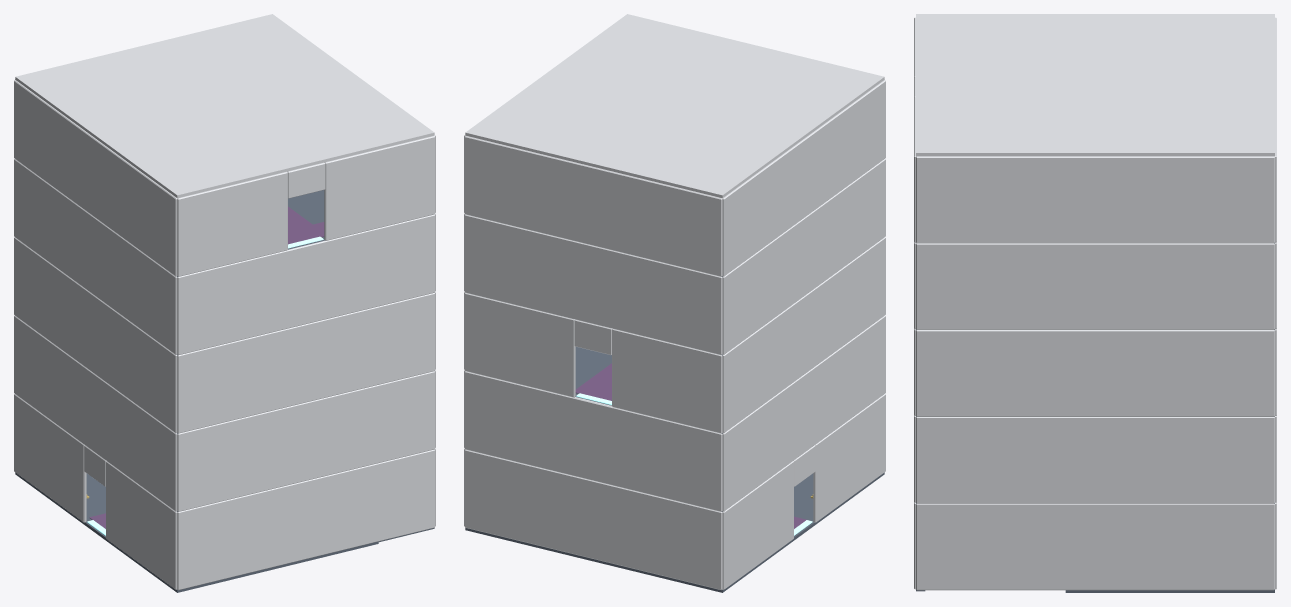
File: stairwell-fwd.glb
3 views of the same model, side by side, from view 1: azimuth 30°, elevation 25°; view 2: azimuth 150°, elevation 25°; view 3: azimuth 270°, elevation 25° (orthographic). The views are drawn at different scales.
Visible parts, largest first — view 1: CM_BULKHEAD, CM_DECK, CM_CARPET; view 2: CM_BULKHEAD, CM_DECK, CM_CARPET; view 3: CM_BULKHEAD, CM_DECK.
Boxes of the visible parts, x1,y1,x2,y2 form: CM_BULKHEAD: (14, 14, 435, 590); CM_DECK: (15, 190, 434, 592); CM_CARPET: (89, 206, 324, 528); CM_BULKHEAD: (464, 14, 885, 590); CM_DECK: (465, 276, 884, 592); CM_CARPET: (575, 363, 806, 528); CM_BULKHEAD: (914, 14, 1276, 590); CM_DECK: (916, 243, 1274, 592).
Size of the model in its own units: 11.14 by 16.24 by 12.14.
